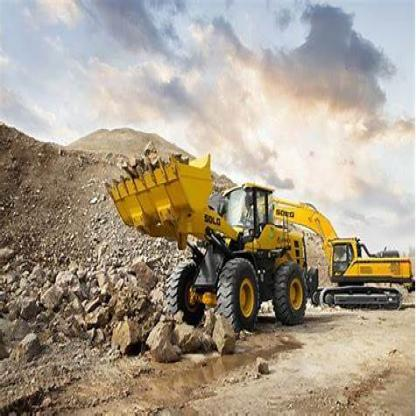bull_dozer/loader/grader: (108, 134, 310, 330)
excavator: (273, 187, 415, 311)
